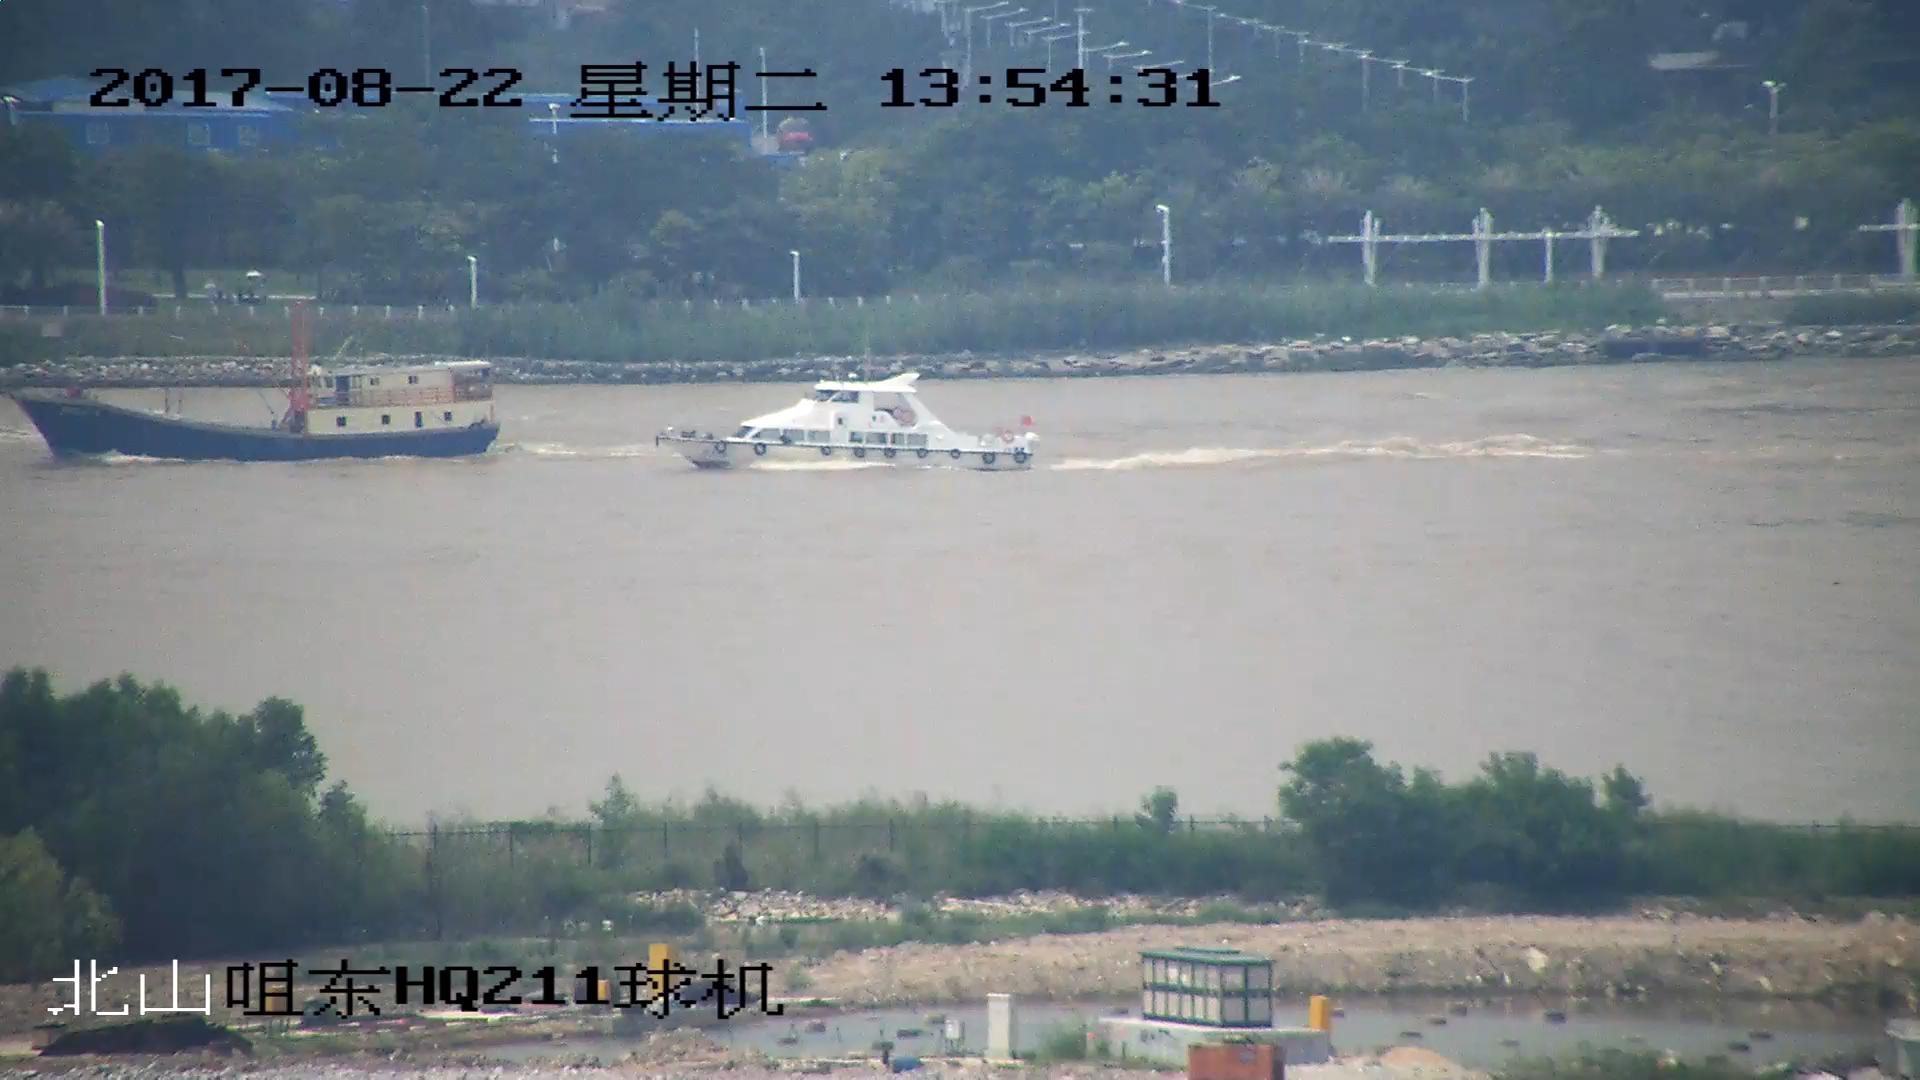fishing boat: (14, 325, 504, 463)
passenger ship: (658, 369, 1040, 477)
